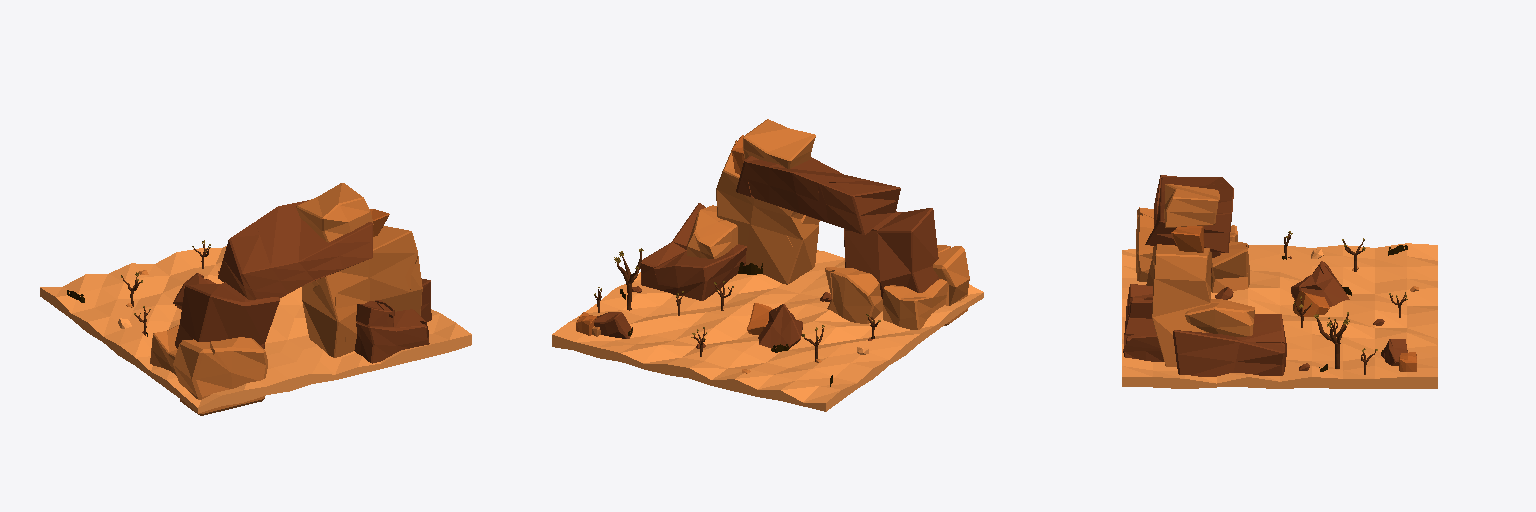
The model's file is sandislandfinal2.obj.
The picture shows the model from 3 angles: view 1: azimuth 30°, elevation 25°; view 2: azimuth 150°, elevation 25°; view 3: azimuth 270°, elevation 25°; orthographic projection.
Visible parts, largest first — view 1: Cube, Cube.004, Cube.001, Cube.002, Cube.005, Cube.009, Cube.008, Cube.010; view 2: Cube, Cube.004, Cube.001, Cube.002, Cube.003, Cube.011, Cube.008, Cube.010, Cube.007, Cube.005, Cube.045, Cube.041 (+1 smaller); view 3: Cube, Cube.003, Cube.001, Cube.004, Cube.009, Cube.008, Cube.007, Cube.011, Cube.045, Cube.005, Cube.006, Cube.044.
Boxes of the visible parts, <box> form: Cube: <box>40,246,471,413</box>; Cube.004: <box>218,200,373,299</box>; Cube.001: <box>302,226,422,357</box>; Cube.002: <box>175,282,279,348</box>; Cube.005: <box>173,337,267,415</box>; Cube.009: <box>354,300,429,363</box>; Cube.008: <box>296,183,373,242</box>; Cube.010: <box>150,324,179,375</box>; Cube: <box>552,250,983,411</box>; Cube.004: <box>736,156,900,234</box>; Cube.001: <box>716,140,819,284</box>; Cube.002: <box>844,208,939,298</box>; Cube.003: <box>640,203,746,300</box>; Cube.011: <box>825,267,882,323</box>; Cube.008: <box>743,119,815,168</box>; Cube.010: <box>883,279,947,329</box>; Cube.007: <box>687,205,737,258</box>; Cube.005: <box>933,245,969,325</box>; Cube.045: <box>758,304,802,348</box>; Cube.041: <box>594,312,632,338</box>; Cube: <box>1122,243,1437,388</box>; Cube.003: <box>1173,314,1286,376</box>; Cube.001: <box>1146,244,1211,366</box>; Cube.004: <box>1145,177,1233,252</box>; Cube.009: <box>1123,284,1163,361</box>; Cube.008: <box>1164,184,1219,227</box>; Cube.007: <box>1185,299,1254,336</box>; Cube.011: <box>1211,241,1249,292</box>; Cube.045: <box>1291,261,1349,306</box>; Cube.005: <box>1136,207,1153,281</box>; Cube.006: <box>1171,225,1203,252</box>; Cube.044: <box>1293,291,1329,316</box>.
Bounding box in the file's own units: 42.28 × 24.98 × 42.28.